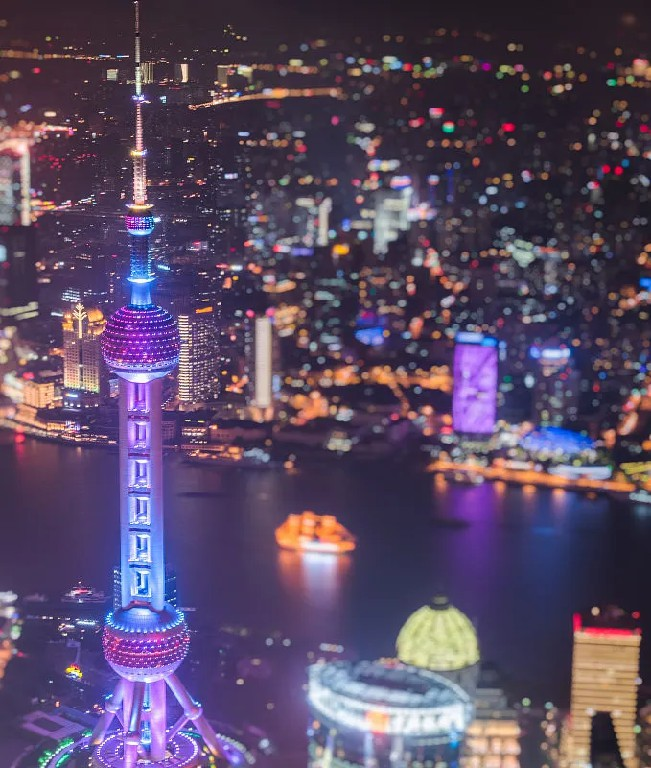Oriental: (91, 1, 226, 767)
